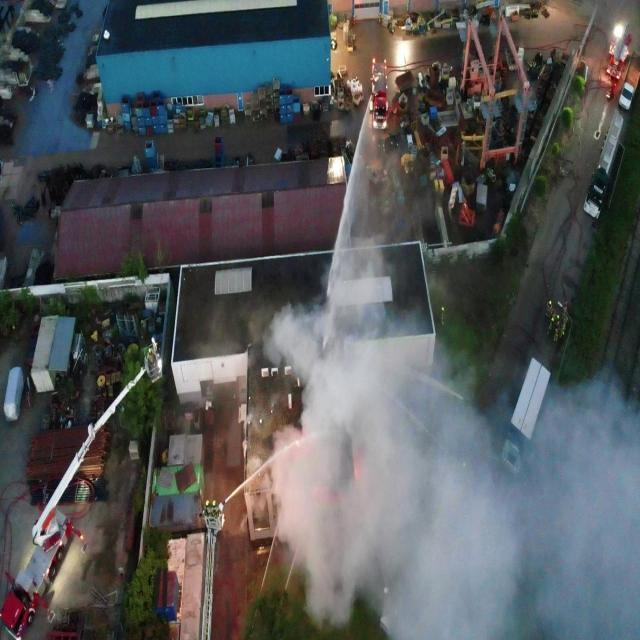Smoke: (242, 233, 640, 640)
